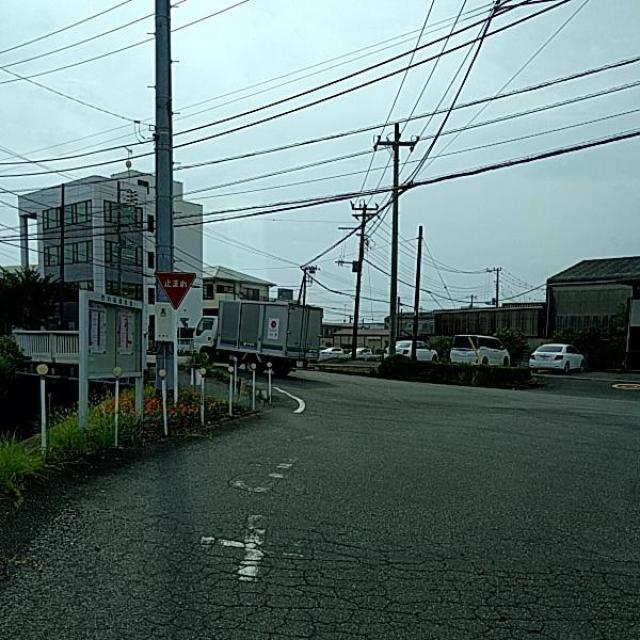Crack: (48, 433, 640, 640)
